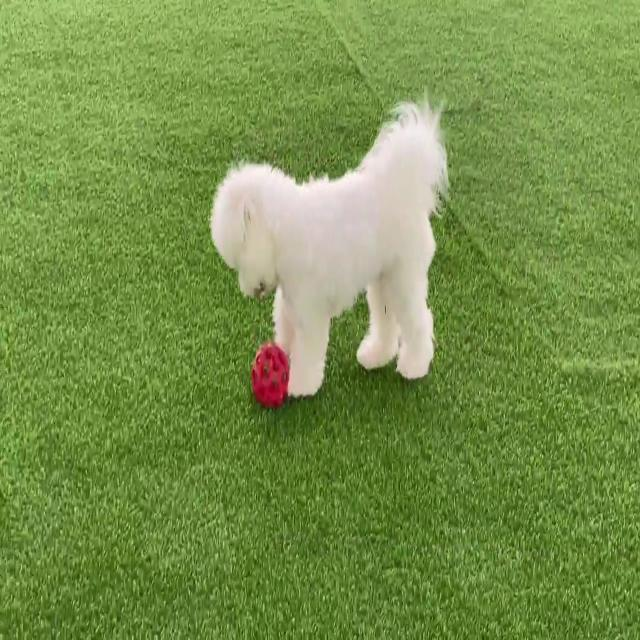Dog: (210, 87, 450, 410)
